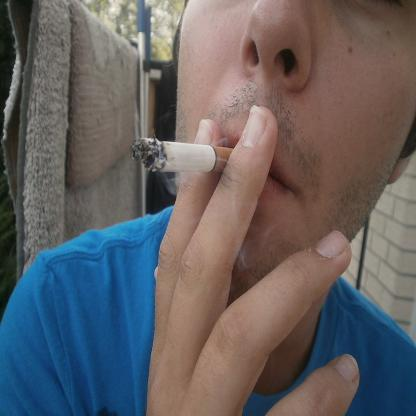smoking: (131, 134, 242, 172)
